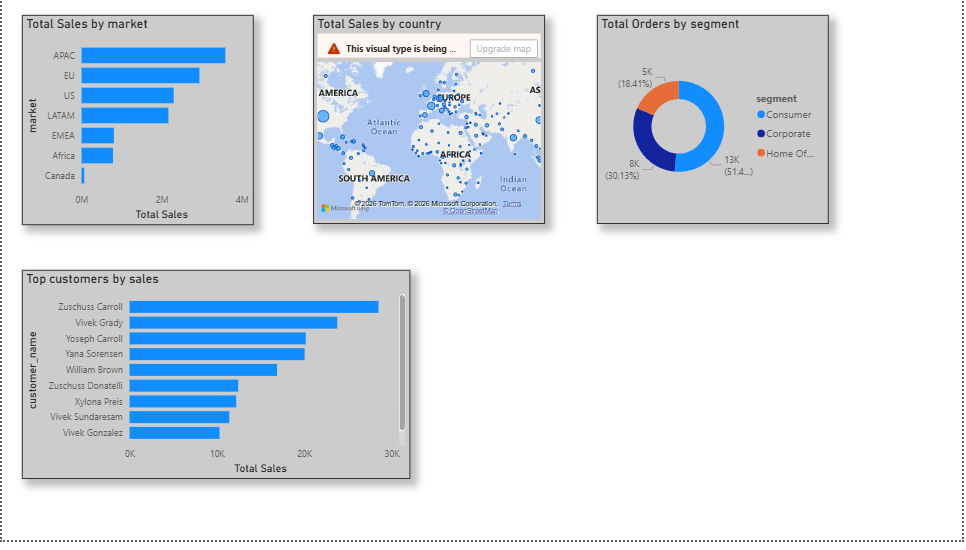

The dashboard page shown, as its layout file describes it:
{"tool":"powerbi","page":{"name":"Customer & Market Analysis","canvas":[1280,720],"ordinal":2},"visuals":[{"type":"barChart","fields":{"Category":["SuperStoreOrders.market"],"Y":["SuperStoreOrders.Total Sales"]},"box":[27.4,20.6,308.7,279.9],"z":0},{"type":"map","fields":{"Category":["SuperStoreOrders.country"],"Size":["SuperStoreOrders.Total Sales"]},"box":[415.8,20.6,308.7,278.6],"z":1},{"type":"donutChart","fields":{"Category":["SuperStoreOrders.segment"],"Y":["SuperStoreOrders.Total Orders"]},"box":[793.1,19.2,308.7,278.6],"z":2},{"type":"barChart","title":"Top customers by sales","fields":{"Y":["SuperStoreOrders.Total Sales"],"Category":["SuperStoreOrders.customer_name"]},"box":[27.4,359.5,517.3,278.6],"z":3}]}

Visuals, with their boxes in screenshot pixels (x1, y1, x2, y2), scaled from the page's 1280x720 canvas onto the 966x550 screenshot:
barChart - SuperStoreOrders.market x SuperStoreOrders.Total Sales: locate(21, 16, 254, 230)
map - SuperStoreOrders.country x SuperStoreOrders.Total Sales: locate(314, 16, 547, 229)
donutChart - SuperStoreOrders.segment x SuperStoreOrders.Total Orders: locate(599, 15, 832, 227)
"Top customers by sales" barChart: locate(21, 275, 411, 487)
